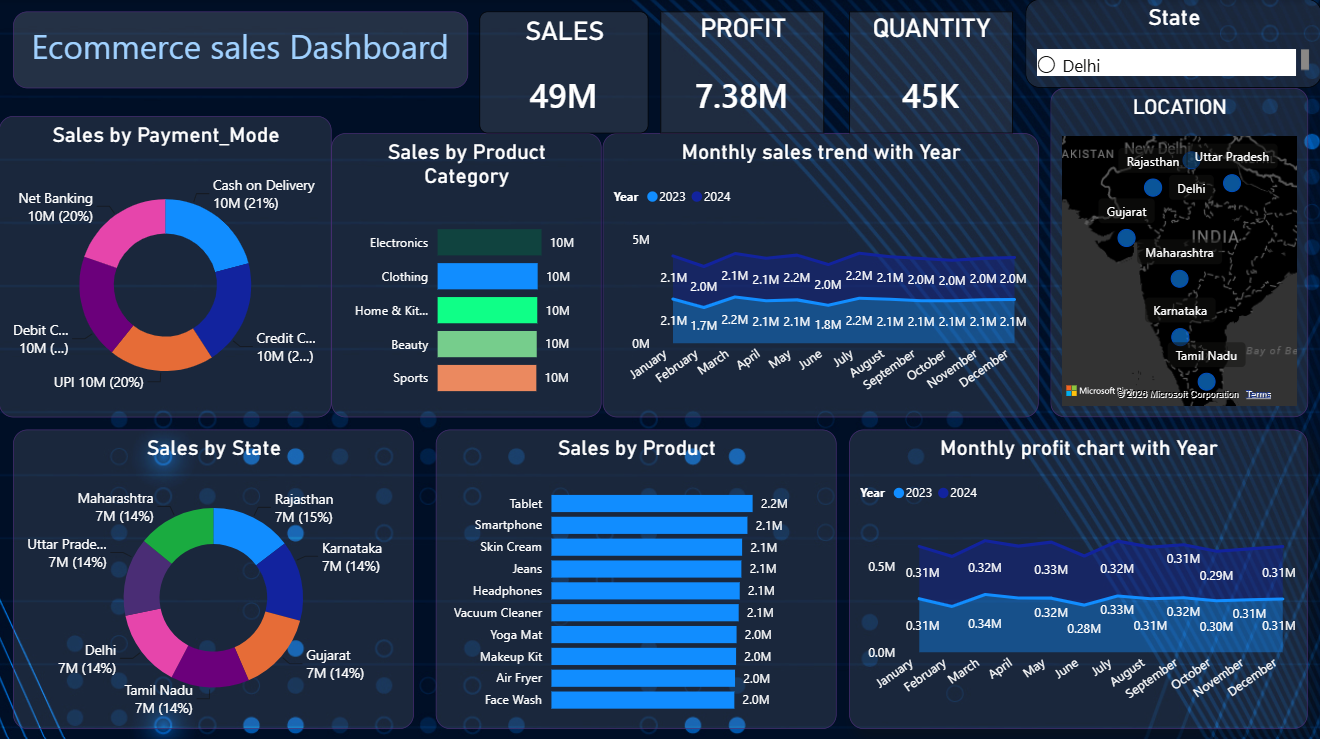

The page's visual inventory and layout, read from the dashboard file:
{"tool":"powerbi","page":{"name":"Page 1","canvas":[1280,720],"ordinal":0},"visuals":[{"type":"clusteredBarChart","title":"Sales by Product Category","fields":{"Category":["ecommerce_sales_dataset_15000_r.Product_Category"],"Y":["Sum(ecommerce_sales_dataset_15000_r.Sales_Amount)"]},"box":[322.1,129.8,261.4,274.9],"z":0},{"type":"clusteredBarChart","title":"Sales by Product ","fields":{"Y":["Sum(ecommerce_sales_dataset_15000_r.Sales_Amount)"],"Category":["ecommerce_sales_dataset_15000_r.Product_Name"]},"box":[423.3,416.5,387.9,290],"z":1000},{"type":"stackedAreaChart","title":"Monthly sales trend with Year","fields":{"Category":["ecommerce_sales_dataset_15000_r.Order_Date.Variation.Date Hierarchy.Month"],"Y":["Sum(ecommerce_sales_dataset_15000_r.Sales_Amount)"],"Series":["ecommerce_sales_dataset_15000_r.Order_Date.Variation.Date Hierarchy.Year"]},"box":[583.5,129.8,421.6,274.9],"z":2000},{"type":"stackedAreaChart","title":"Monthly profit chart with Year","fields":{"Category":["ecommerce_sales_dataset_15000_r.Order_Date.Variation.Date Hierarchy.Month"],"Series":["ecommerce_sales_dataset_15000_r.Order_Date.Variation.Date Hierarchy.Year"],"Y":["Sum(ecommerce_sales_dataset_15000_r.Profit)"]},"box":[822.9,416.5,443.5,290],"z":3000},{"type":"map","title":"LOCATION","fields":{"Category":["ecommerce_sales_dataset_15000_r.State"],"Size":["Sum(ecommerce_sales_dataset_15000_r.Sales_Amount)"]},"box":[1016.8,86,249.6,318.7],"z":4000},{"type":"donutChart","title":" Sales by Payment_Mode","fields":{"Category":["ecommerce_sales_dataset_15000_r.Payment_Mode"],"Y":["Sum(ecommerce_sales_dataset_15000_r.Sales_Amount)"]},"box":[0,113,322.1,291.7],"z":5000},{"type":"donutChart","title":"Sales by State","fields":{"Y":["Sum(ecommerce_sales_dataset_15000_r.Sales_Amount)"],"Category":["ecommerce_sales_dataset_15000_r.State"]},"box":[13.5,416.5,387.9,290],"z":6000},{"type":"textbox","box":[13.5,11.8,440.1,74.2],"z":7000},{"type":"cardVisual","title":"QUANTITY","fields":{"Data":["Sum(ecommerce_sales_dataset_15000_r.Quantity)"]},"box":[822.9,11.8,158.5,118],"z":8000},{"type":"cardVisual","title":"SALES","fields":{"Data":["Sum(ecommerce_sales_dataset_15000_r.Sales_Amount)"]},"box":[465.4,11.8,163.6,118],"z":9000},{"type":"cardVisual","title":"PROFIT","fields":{"Data":["Sum(ecommerce_sales_dataset_15000_r.Profit)"]},"box":[640.8,11.8,158.5,118],"z":10000},{"type":"listSlicer","fields":{"Values":["ecommerce_sales_dataset_15000_r.State"]},"box":[993.2,0,286.7,86],"z":11000}]}

Visuals, with their boxes in screenshot pixels (x1, y1, x2, y2), scaled from the page's 1280x720 canvas onto the 1320x739 screenshot:
"Sales by Product Category" clusteredBarChart: BBox(332, 133, 602, 415)
"Sales by Product " clusteredBarChart: BBox(437, 427, 837, 725)
"Monthly sales trend with Year" stackedAreaChart: BBox(602, 133, 1037, 415)
"Monthly profit chart with Year" stackedAreaChart: BBox(849, 427, 1306, 725)
"LOCATION" map: BBox(1049, 88, 1306, 415)
" Sales by Payment_Mode" donutChart: BBox(0, 116, 332, 415)
"Sales by State" donutChart: BBox(14, 427, 414, 725)
textbox: BBox(14, 12, 468, 88)
"QUANTITY" cardVisual: BBox(849, 12, 1012, 133)
"SALES" cardVisual: BBox(480, 12, 649, 133)
"PROFIT" cardVisual: BBox(661, 12, 824, 133)
listSlicer - ecommerce_sales_dataset_15000_r.State: BBox(1024, 0, 1319, 88)
